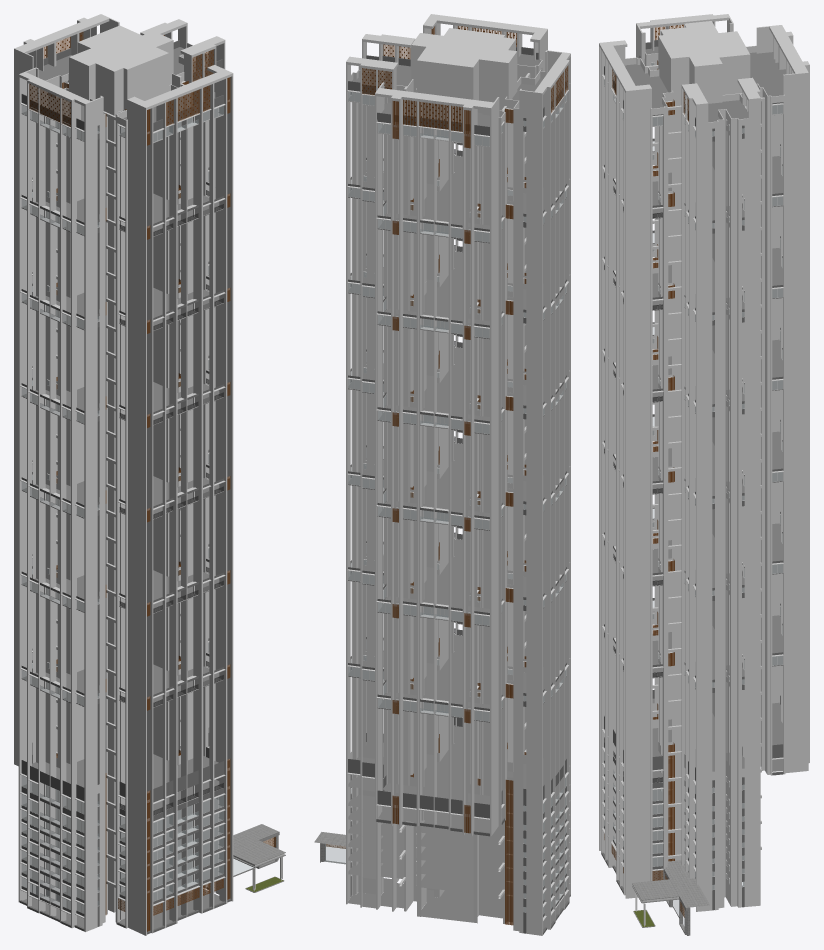
File: 01_SM_T4_Skeleton.glb
3 views of the same model, side by side, from view 1: azimuth 30°, elevation 25°; view 2: azimuth 150°, elevation 25°; view 3: azimuth 270°, elevation 25° (orthographic). The views are drawn at different scales.
Visible parts, largest first — view 1: SM_Tower_04, SM_Tower_04_RefugeeFloor, SM_Tower_03&04_Canopy; view 2: SM_Tower_04, SM_Tower_04_RefugeeFloor, SM_Tower_03&04_Canopy; view 3: SM_Tower_04, SM_Tower_04_RefugeeFloor, SM_Tower_03&04_Canopy.
Boxes of the visible parts, x1,y1,x2,y2 form: SM_Tower_04: [14, 14, 233, 935]; SM_Tower_04_RefugeeFloor: [20, 167, 230, 710]; SM_Tower_03&04_Canopy: [208, 824, 285, 892]; SM_Tower_04: [346, 14, 570, 935]; SM_Tower_04_RefugeeFloor: [347, 142, 570, 723]; SM_Tower_03&04_Canopy: [314, 832, 345, 864]; SM_Tower_04: [599, 14, 809, 911]; SM_Tower_04_RefugeeFloor: [602, 138, 783, 692]; SM_Tower_03&04_Canopy: [632, 860, 709, 935].
Size of the model in its own units: 2.83 by 9.54 by 2.22.
7 materials, 2 textured.
